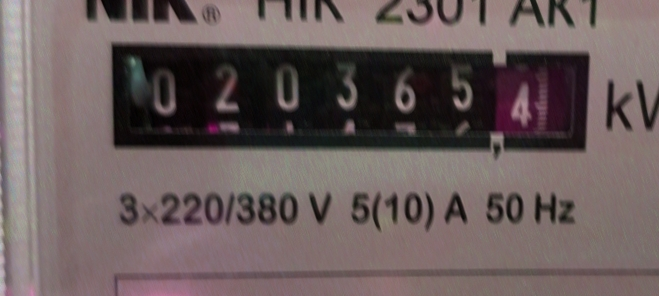0: (147, 63, 181, 119), (273, 62, 303, 112)
2: (211, 62, 242, 113)
3: (332, 61, 361, 111)
4: (508, 79, 532, 128)
5: (449, 64, 476, 111)
6: (391, 63, 418, 114)
screen: (96, 26, 606, 172)
